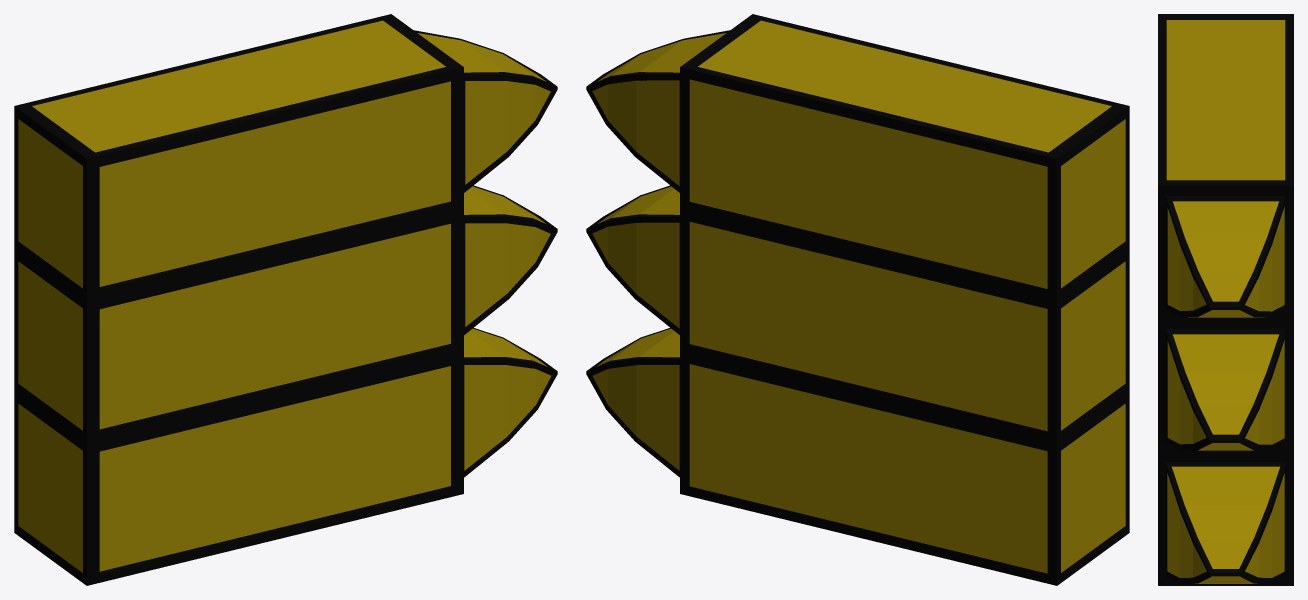
Rendered from objectItem1.fbx.
3 views of the same model, side by side, from view 1: azimuth 30°, elevation 25°; view 2: azimuth 150°, elevation 25°; view 3: azimuth 270°, elevation 25° (orthographic). The views are drawn at different scales.
Visible parts, largest first — view 1: Box001; view 2: Box001; view 3: Box001.
Boxes of the visible parts, x1=… form: Box001: x1=14, y1=14, x2=557, y2=585; Box001: x1=586, y1=14, x2=1129, y2=585; Box001: x1=1158, y1=14, x2=1293, y2=585.
Bounding box in the file's own units: 26.24 × 21.46 × 6.61.
